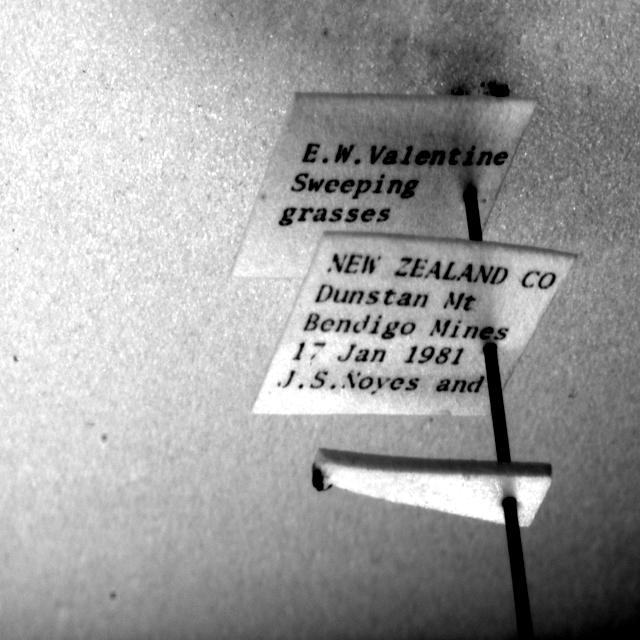typed_label: (254, 232, 575, 414), (234, 94, 536, 278)
